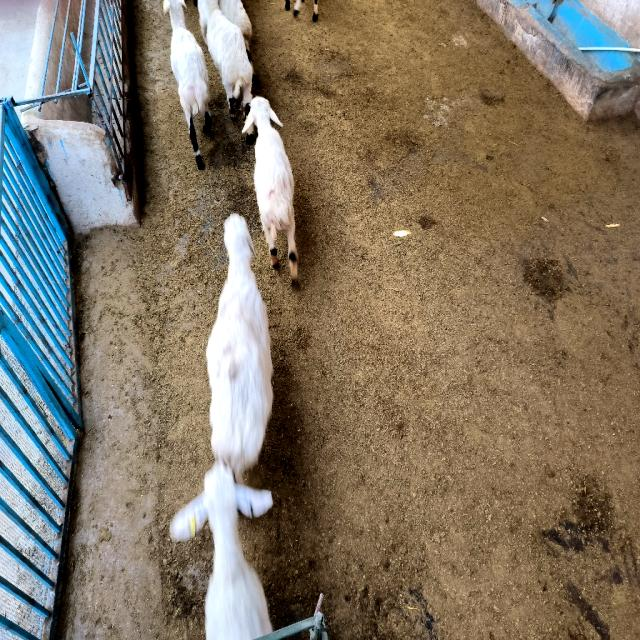sheep: (169, 462, 274, 638), (206, 213, 272, 475), (242, 97, 298, 287), (164, 0, 211, 170), (206, 0, 252, 118), (219, 0, 252, 52)
